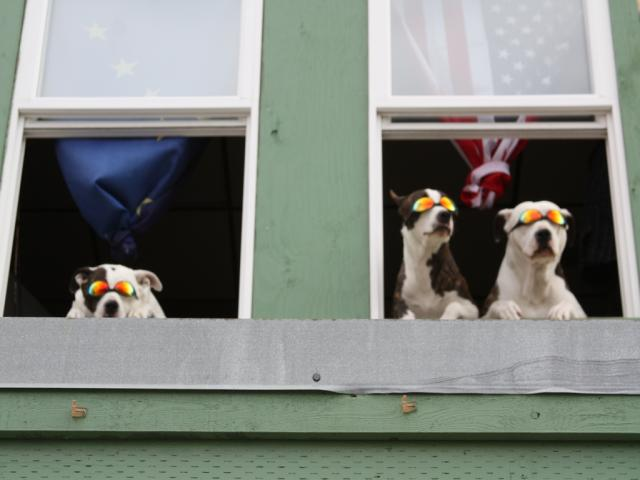Dog: (479, 202, 589, 319), (390, 189, 478, 319), (67, 262, 168, 320)
